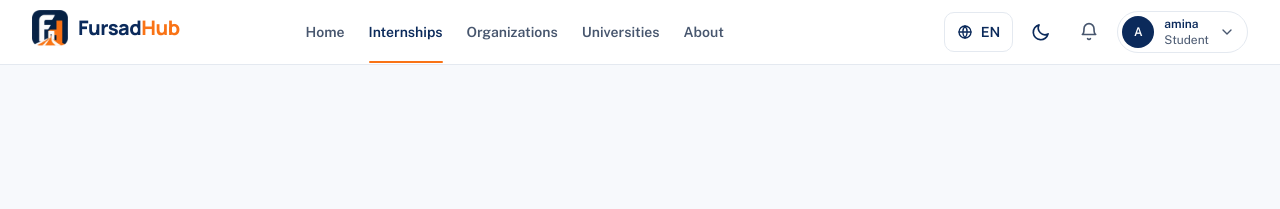
Test: public shell › opens the account menu and offers only existing destinations
Click the button with aria-label "Account" at x=1183, y=32, box [1117,11,1248,53]
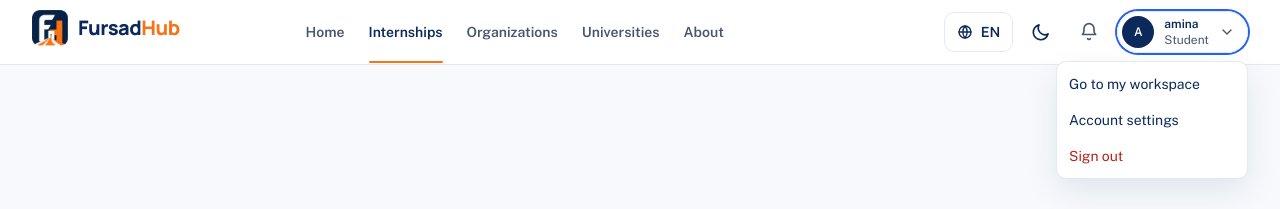
Now the menu item "Go to my workspace" is shown, box [1057,66,1247,102]
Now the menu item "Account settings" is shown, box [1057,102,1247,138]
Now the menu item "Sign out" is shown, box [1057,138,1247,174]
Press Escape
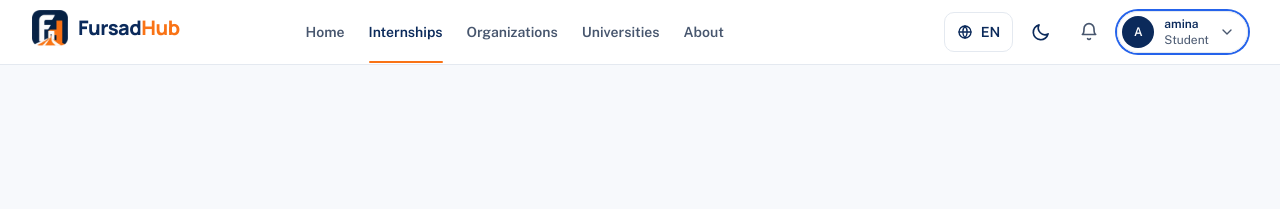
Now the menu item "Account" is gone
